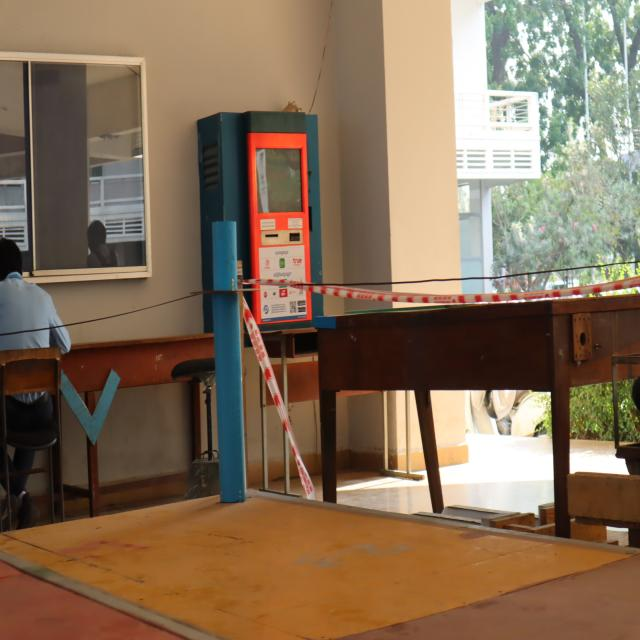pole: (188, 217, 256, 362)
